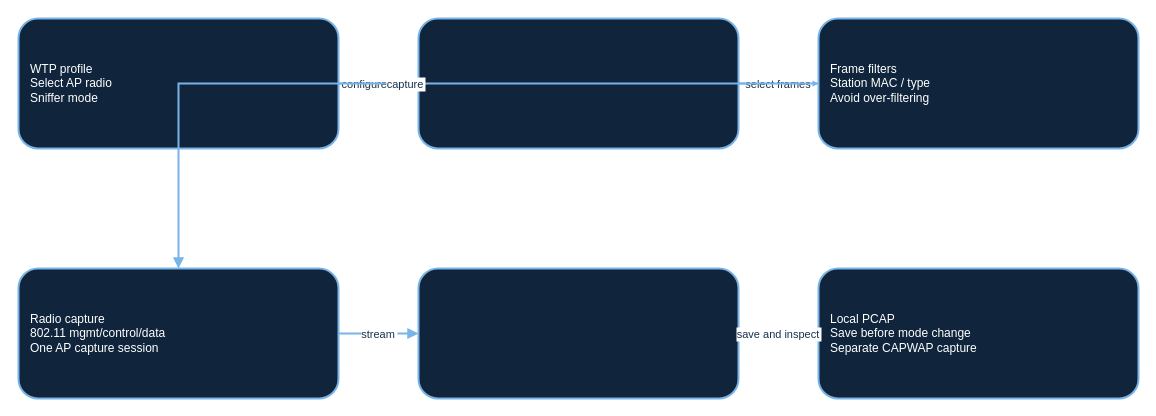
Image size: 1156x416. Some labels were removed from this diagram. The shapes that lost their labels are listed below. From the top down, each one's box as (x1, y1, x2, y2) in pixels, then its label:
(417, 17, 739, 149): Channel and width One RF channel Band/radio capability
(417, 267, 739, 399): Browser stream Live capture to GUI Not stored on FortiGate
